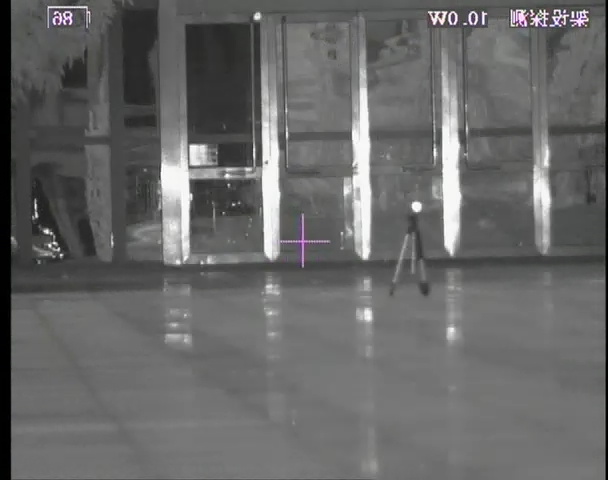my: (410, 200, 423, 213)
